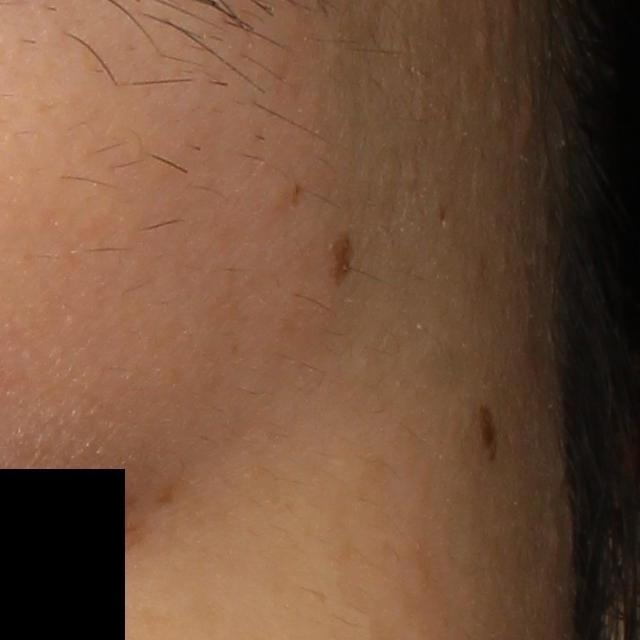nevus: (478, 407, 495, 460)
